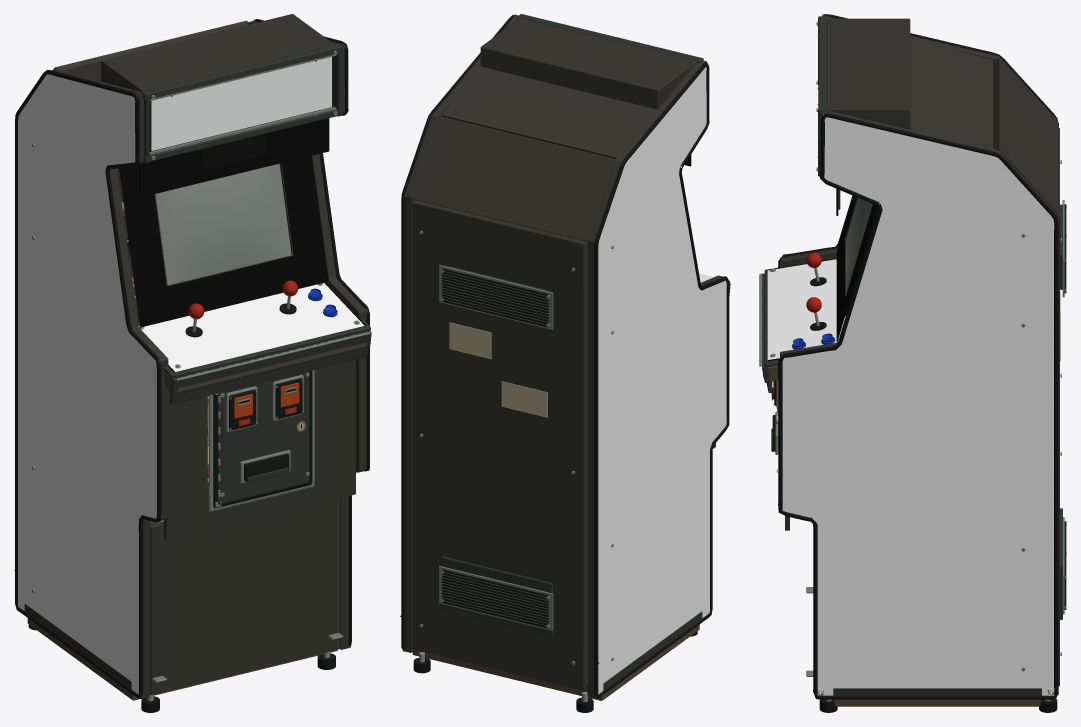
The model's file is robotron-cabinet.glb.
3 views of the same model, side by side, from view 1: azimuth 30°, elevation 25°; view 2: azimuth 150°, elevation 25°; view 3: azimuth 270°, elevation 25° (orthographic). The views are drawn at different scales.
Parts seen in each view (by area): view 1: left_panel_print, chassis, marquee_mount, monitor_bezel, coin_fascia, crt_screen, coin_hinge, left_panel, control_print, marquee_print, controls_hinge, speaker_cover (+3 smaller); view 2: rear_service, left_panel_print, back_panel, chassis, marquee_mount, left_panel, rear_vents, right_panel, inspection_label, back_label; view 3: right_panel_print, chassis, marquee_mount, right_panel, back_panel, control_print, left_panel, controls_hinge, monitor_bezel, rear_service, crt_screen, rear_vents.
Boxes of the visible parts, x1,y1,x2,y2 form: left_panel_print: (18, 74, 156, 697); chassis: (24, 44, 343, 712); marquee_mount: (101, 14, 342, 162); monitor_bezel: (119, 156, 328, 327); coin_fascia: (164, 359, 355, 540); crt_screen: (155, 163, 291, 284); coin_hinge: (209, 369, 314, 511); left_panel: (14, 69, 168, 698); control_print: (138, 283, 364, 371); marquee_print: (151, 57, 331, 150); controls_hinge: (138, 282, 371, 404); speaker_cover: (139, 118, 329, 197); rear_service: (412, 200, 587, 690); left_panel_print: (598, 67, 726, 694); back_panel: (410, 115, 615, 242); chassis: (412, 18, 702, 712); marquee_mount: (480, 14, 703, 109); left_panel: (587, 60, 729, 698); rear_vents: (439, 265, 553, 630); right_panel: (400, 14, 518, 652); inspection_label: (501, 381, 547, 417); back_label: (449, 322, 491, 359); right_panel_print: (782, 114, 1054, 695); chassis: (806, 18, 1057, 712); marquee_mount: (816, 16, 910, 176); right_panel: (778, 111, 1058, 699); back_panel: (994, 58, 1058, 214); control_print: (767, 259, 845, 359); left_panel: (778, 14, 1057, 267); controls_hinge: (759, 258, 836, 392); monitor_bezel: (836, 196, 877, 342); rear_service: (1057, 128, 1062, 686); crt_screen: (846, 198, 872, 291); rear_vents: (1062, 200, 1066, 614).
Size of the model in its own units: 1.22 by 3.4 by 1.56.
